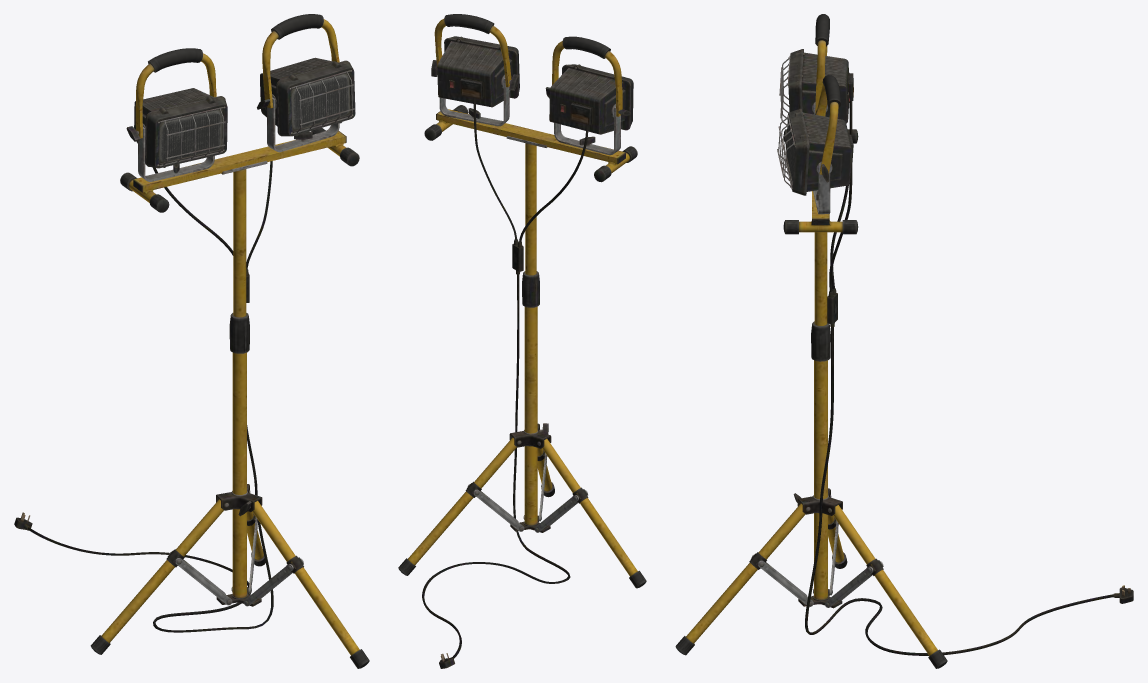
File: floodlight.glb
3 renders of one model, left to right at view 1: azimuth 30°, elevation 25°; view 2: azimuth 150°, elevation 25°; view 3: azimuth 270°, elevation 25°, orthographic. The views are drawn at different scales.
Parts seen in each view (by area): view 1: flood_lights_standing_double_a_bar; view 2: flood_lights_standing_double_a_bar; view 3: flood_lights_standing_double_a_bar.
Boxes of the visible parts, <box> form: flood_lights_standing_double_a_bar: <box>14,14,369,668</box>; flood_lights_standing_double_a_bar: <box>398,14,646,668</box>; flood_lights_standing_double_a_bar: <box>675,14,1133,668</box>.
Size of the model in its own units: 0.7783 by 1.79 by 1.28.
2 materials, 2 textured.
